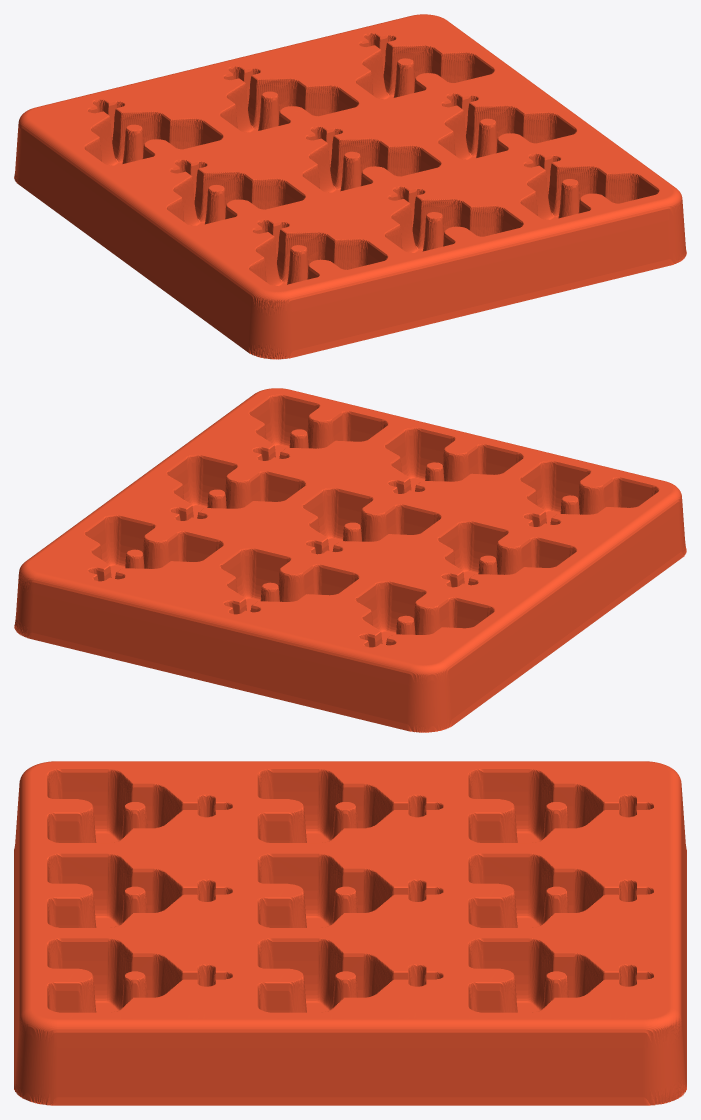
Rendered from mold.glb.
The picture shows the model from 3 angles, top to bottom: view 1: azimuth 30°, elevation 25°; view 2: azimuth 150°, elevation 25°; view 3: azimuth 270°, elevation 25°; orthographic projection. The views are drawn at different scales.
Parts seen in each view (by area): view 1: geometry_0; view 2: geometry_0; view 3: geometry_0.
Boxes of the visible parts, x1,y1,x2,y2 form: geometry_0: (14, 14, 686, 359); geometry_0: (14, 388, 686, 732); geometry_0: (14, 761, 686, 1105).
Size of the model in its own units: 0.1338 by 0.0182 by 0.1402.
